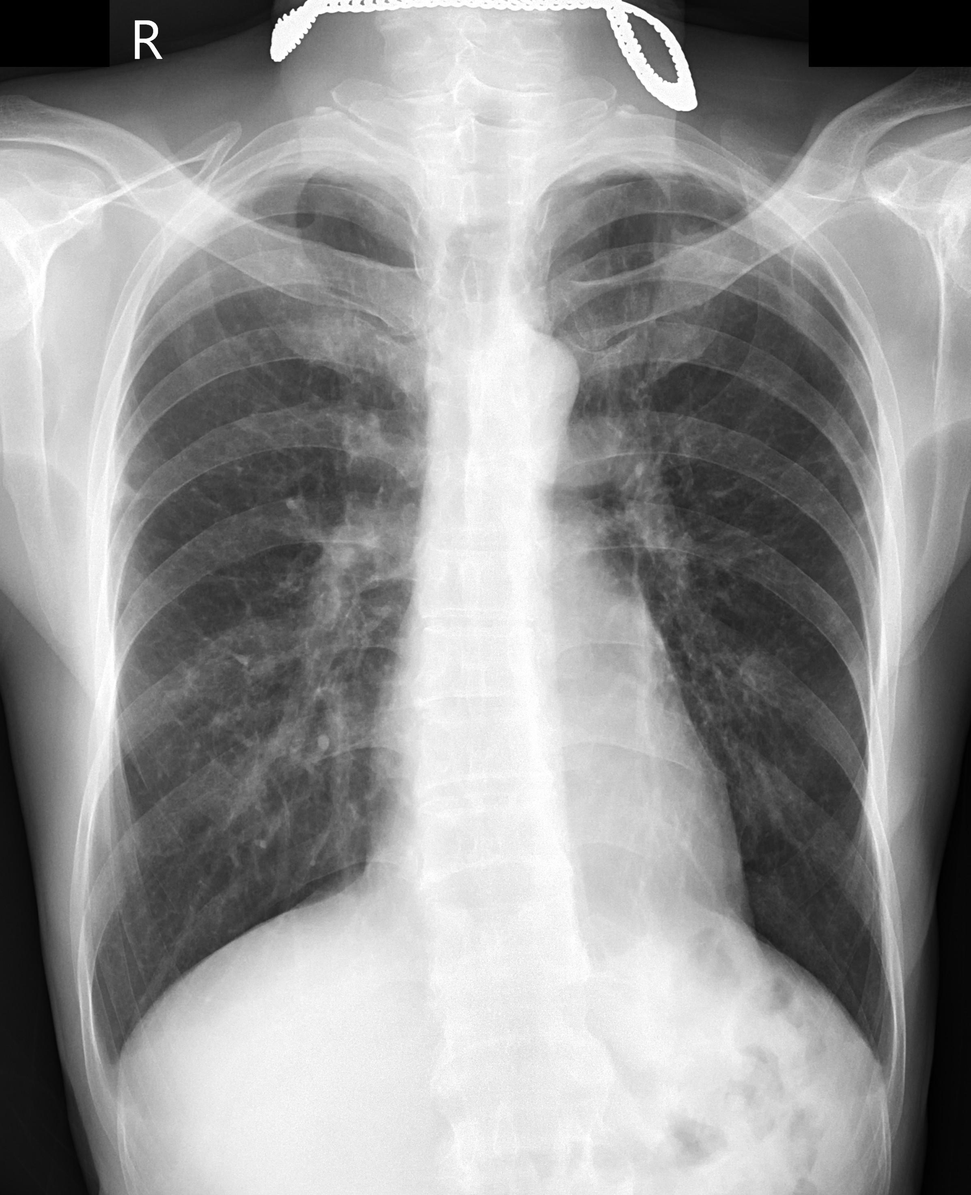Pleural thickening: (196, 160, 421, 204), (564, 156, 739, 189), (84, 1038, 136, 1090)
